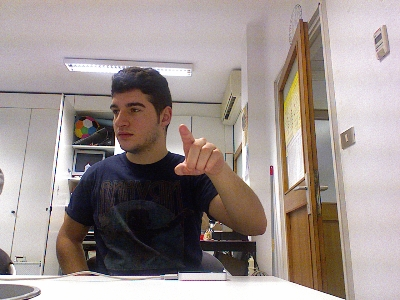食指: (172, 121, 225, 177)
